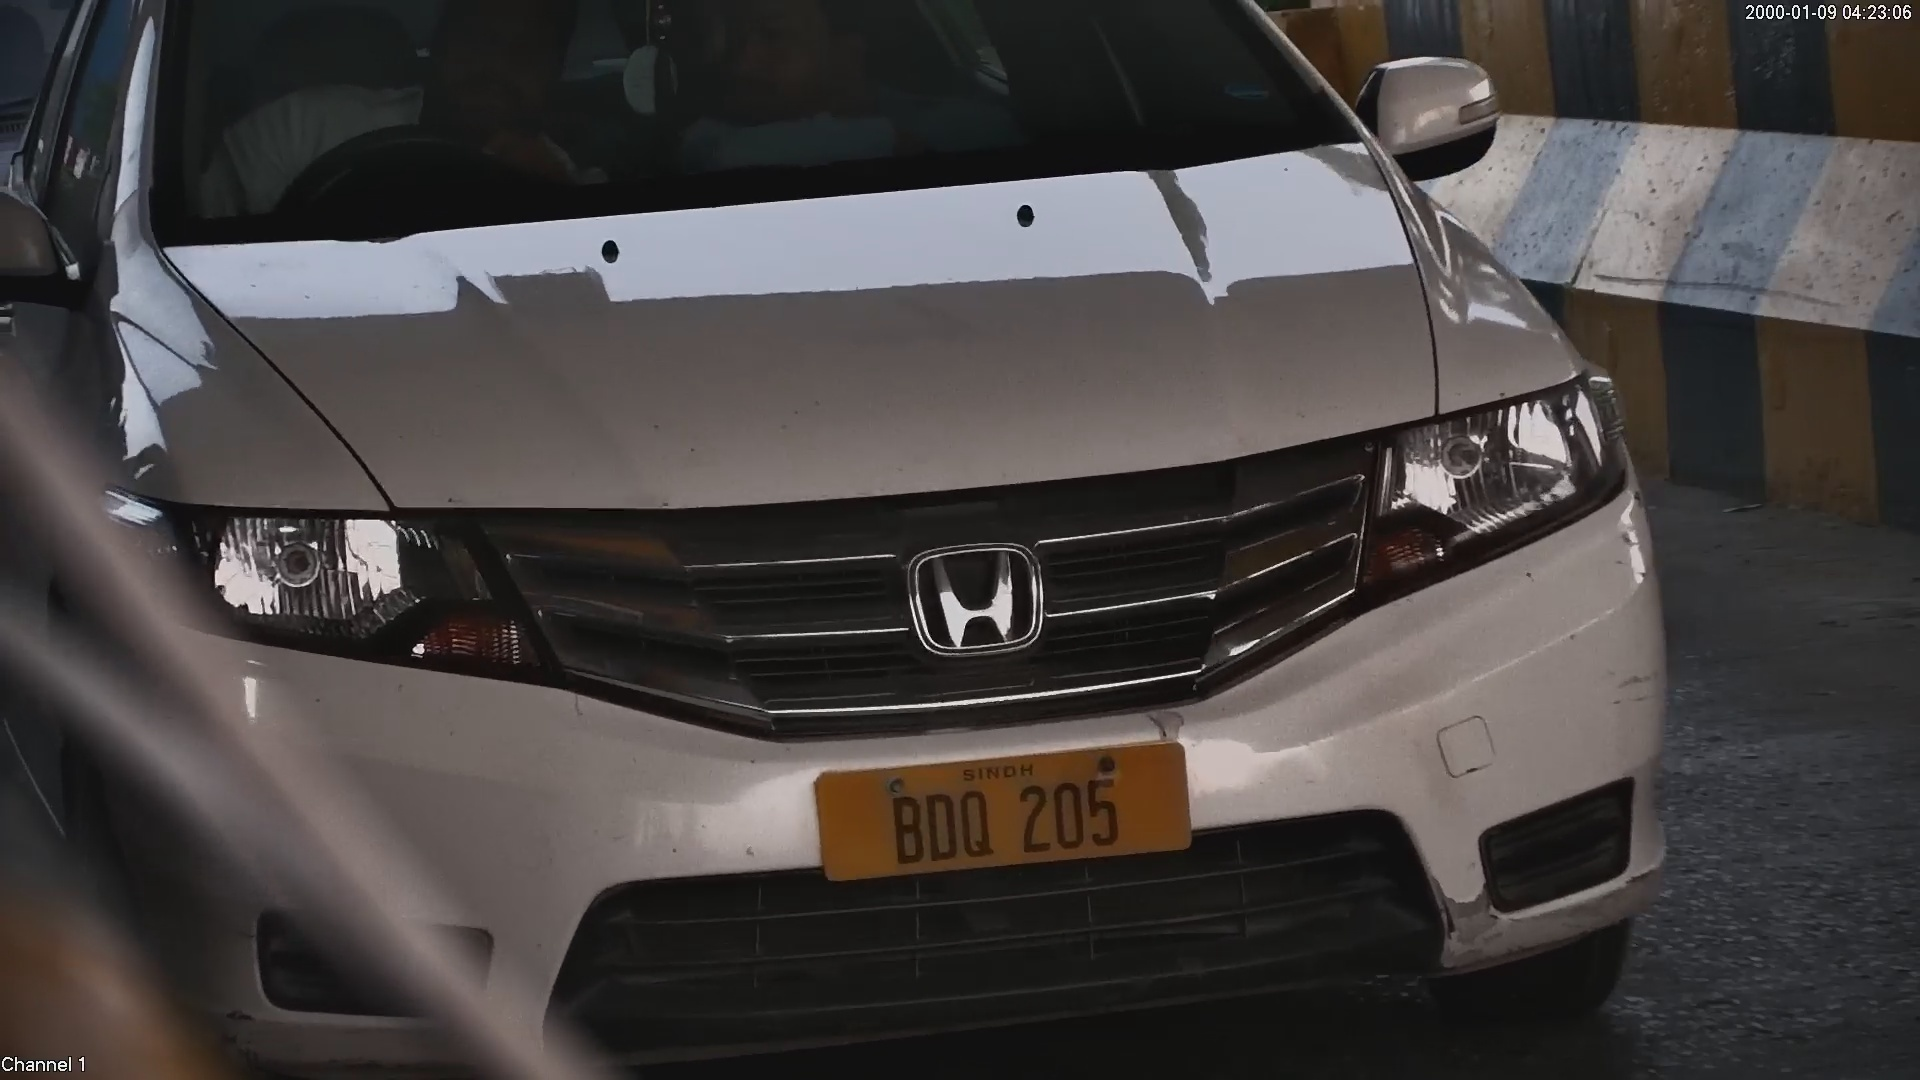Number_Plate: (791, 731, 1210, 870)
Undefined: (206, 516, 467, 649), (1402, 396, 1608, 549), (908, 549, 1043, 653)
